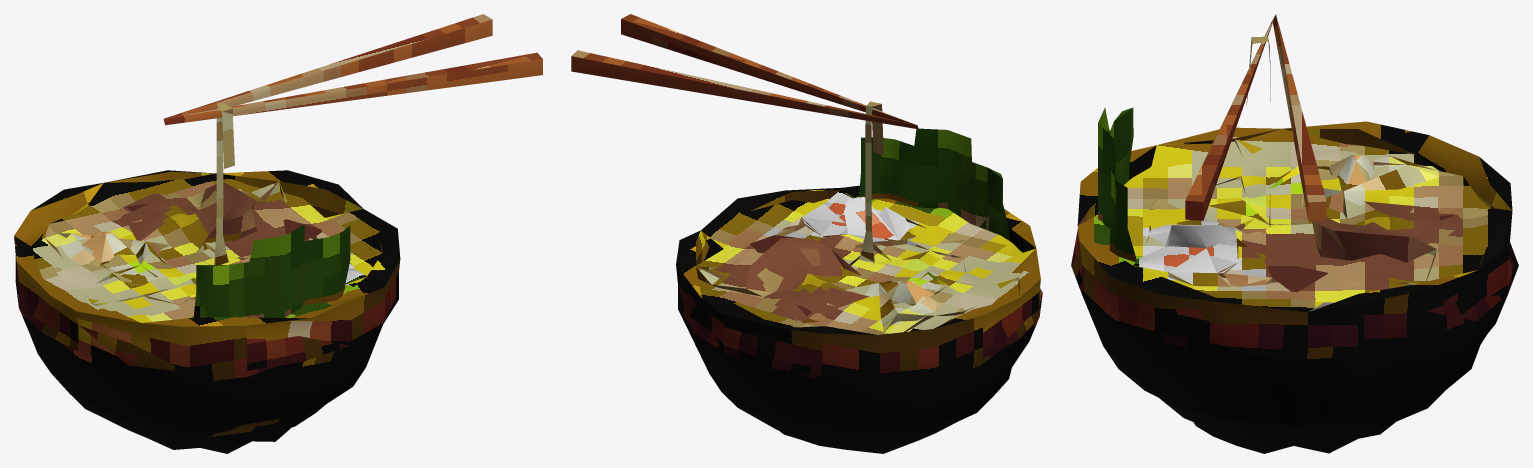
File: mk_jar_ramen.glb
3 views of the same model, side by side, from view 1: azimuth 30°, elevation 25°; view 2: azimuth 150°, elevation 25°; view 3: azimuth 270°, elevation 25° (orthographic). The views are drawn at different scales.
Parts seen in each view (by area): view 1: mesh; view 2: mesh; view 3: mesh.
Part boxes in pixels (x1=…): mesh: x1=14, y1=14, x2=542, y2=453; mesh: x1=571, y1=14, x2=1042, y2=453; mesh: x1=1071, y1=14, x2=1518, y2=453.
Size of the model in its own units: 0.1041 by 0.07 by 0.0758.
1 material, 1 textured.
